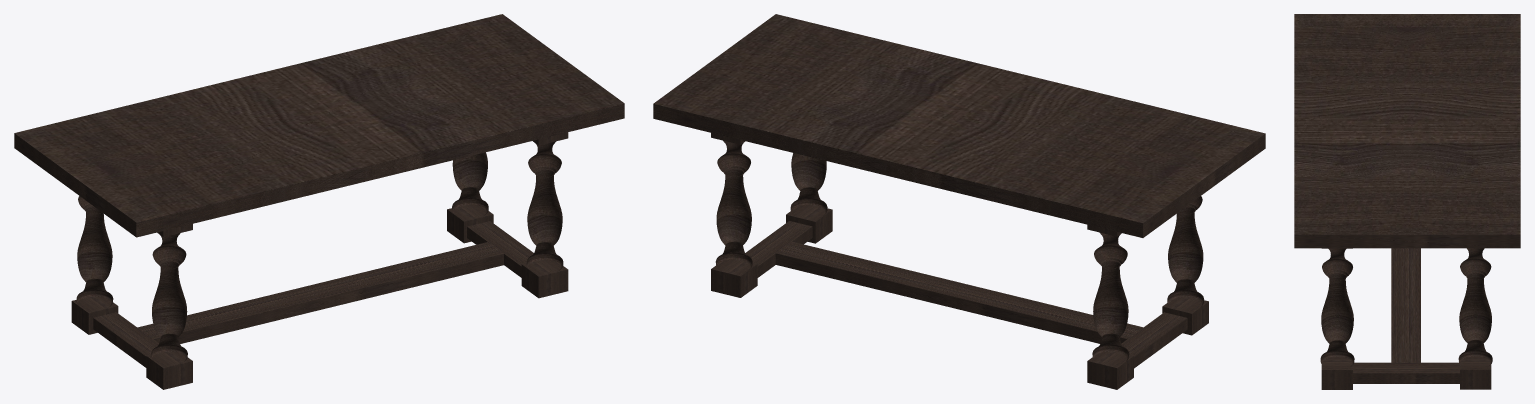
Rendered from classic_coffee_table.glb.
3 renders of one model, left to right at view 1: azimuth 30°, elevation 25°; view 2: azimuth 150°, elevation 25°; view 3: azimuth 270°, elevation 25°, orthographic. The views are drawn at different scales.
Parts seen in each view (by area): view 1: Cube__0, Lathe__0; view 2: Cube__0, Lathe__0; view 3: Cube__0, Lathe__0.
Part boxes in pixels (left/top/right/bottom): Cube__0: left=14, top=14, right=624, bottom=367; Lathe__0: left=71, top=132, right=568, bottom=389; Cube__0: left=653, top=14, right=1265, bottom=368; Lathe__0: left=711, top=133, right=1208, bottom=389; Cube__0: left=1294, top=14, right=1520, bottom=383; Lathe__0: left=1320, top=248, right=1492, bottom=389.
Bounding box in the file's own units: 105 × 38.87 × 45.73.
Materials: 1 (1 with a texture image).
